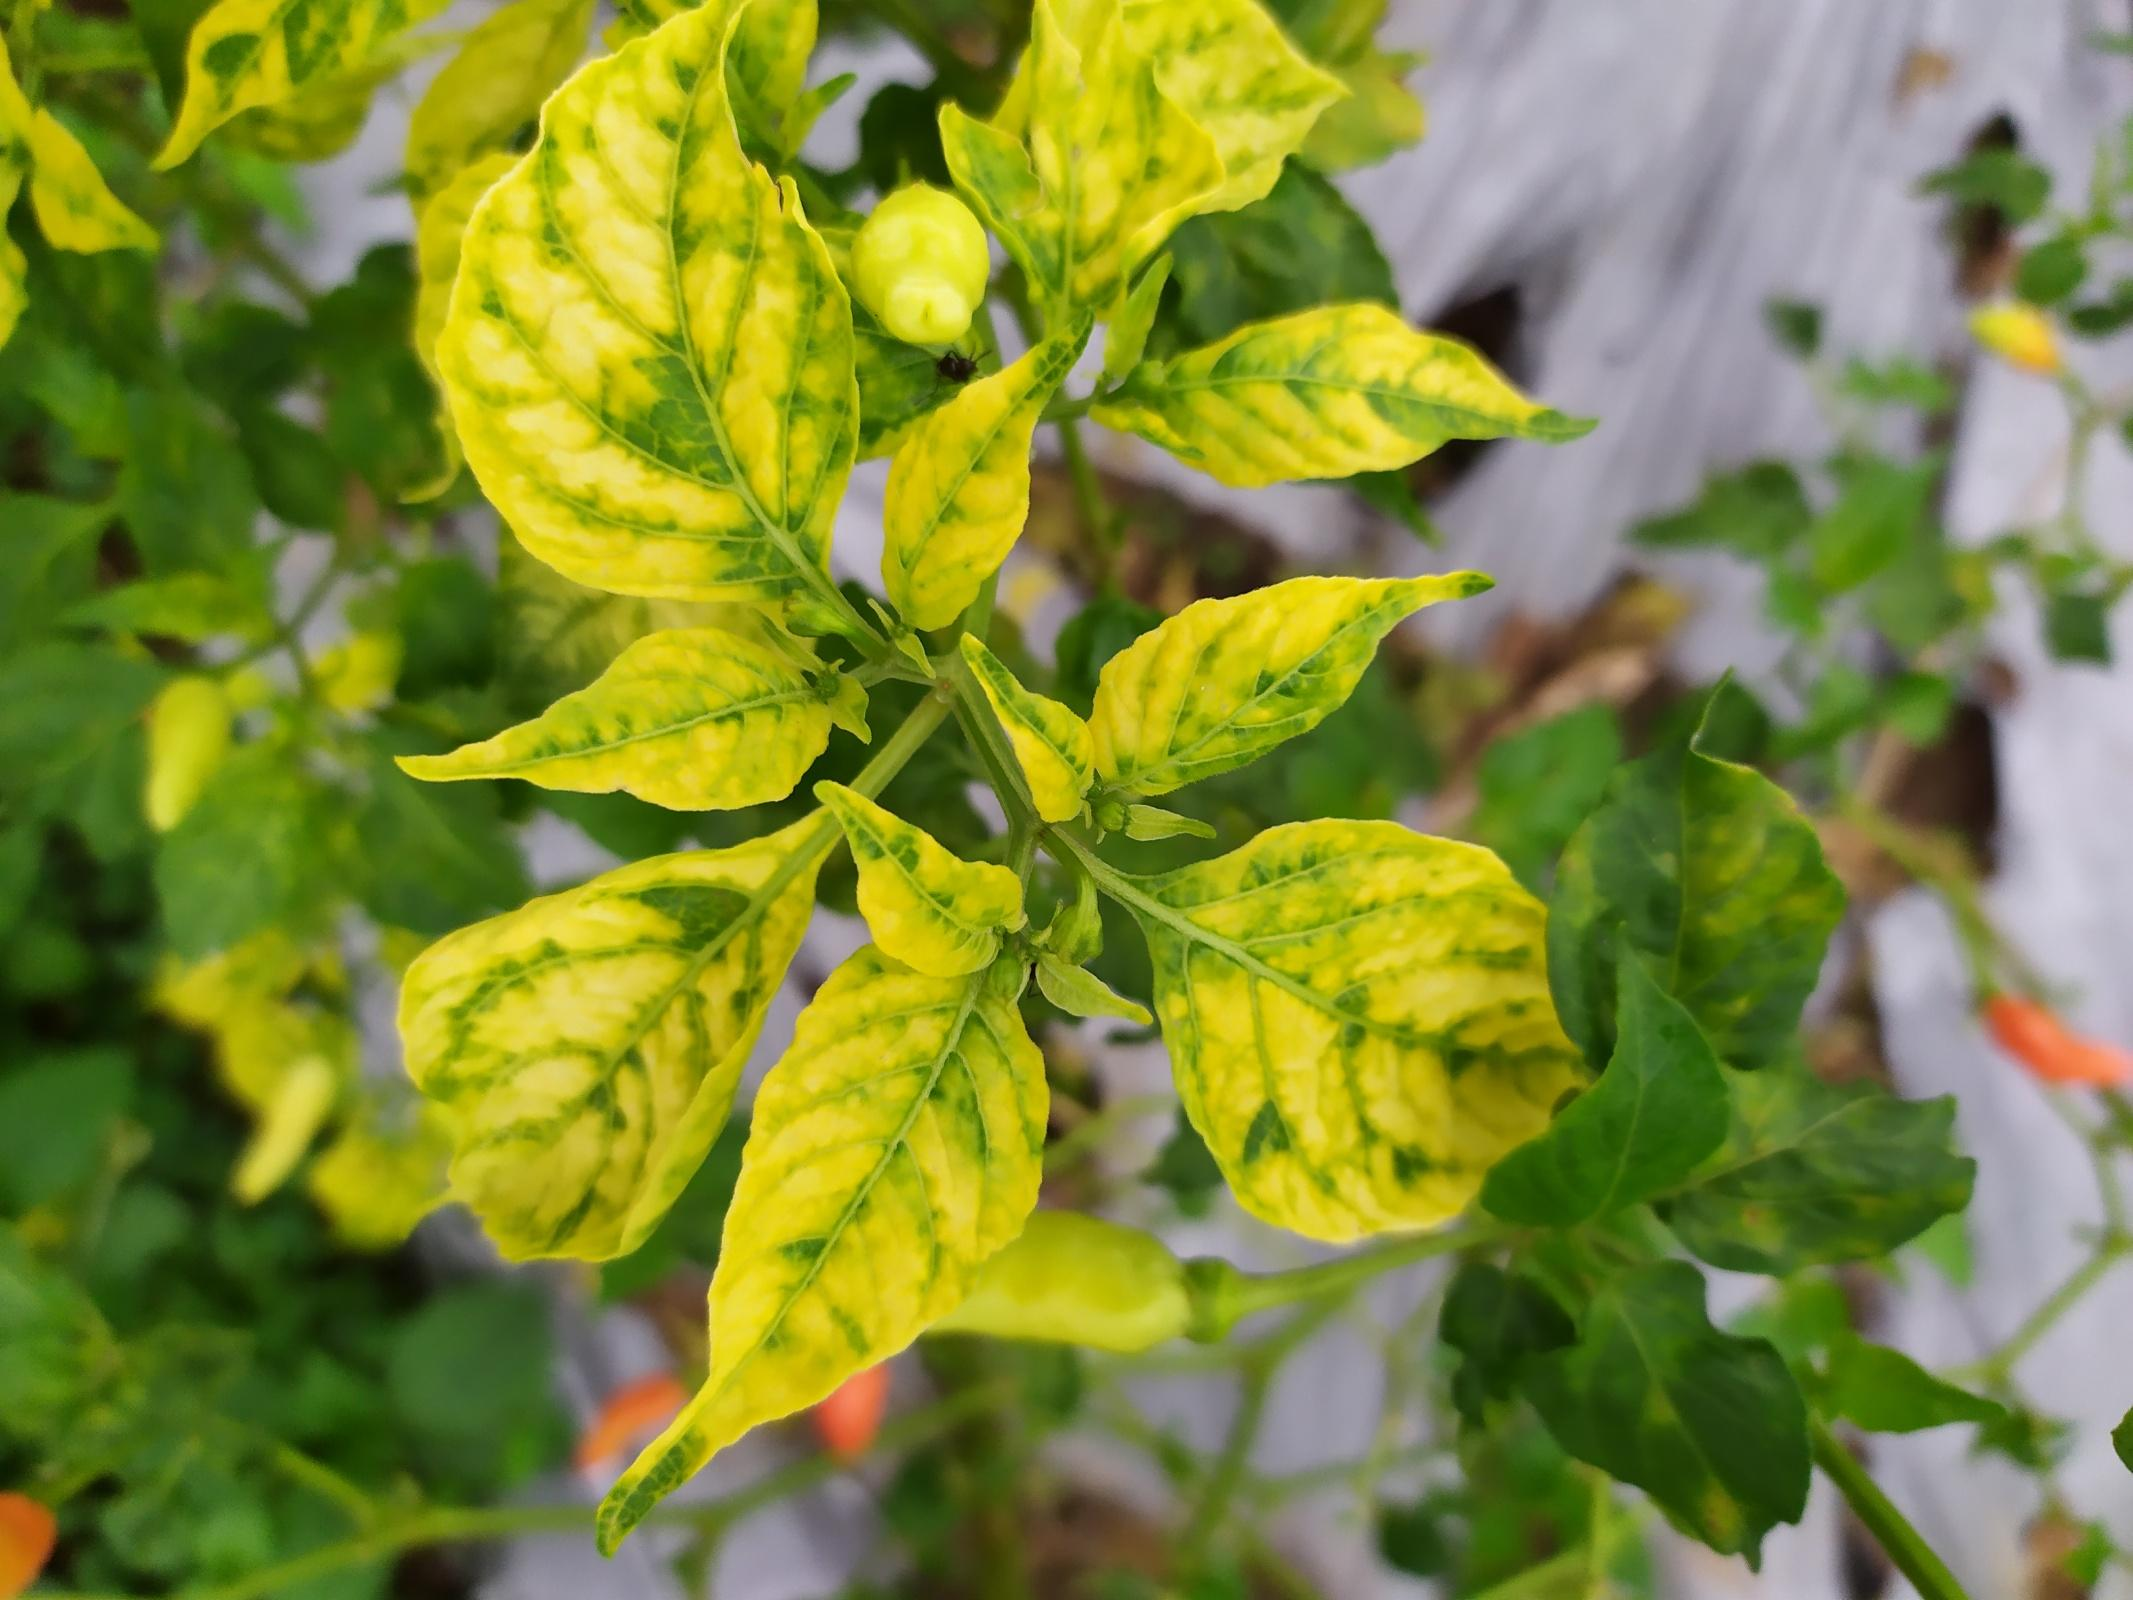cabai_normal: (852, 185, 992, 348)
